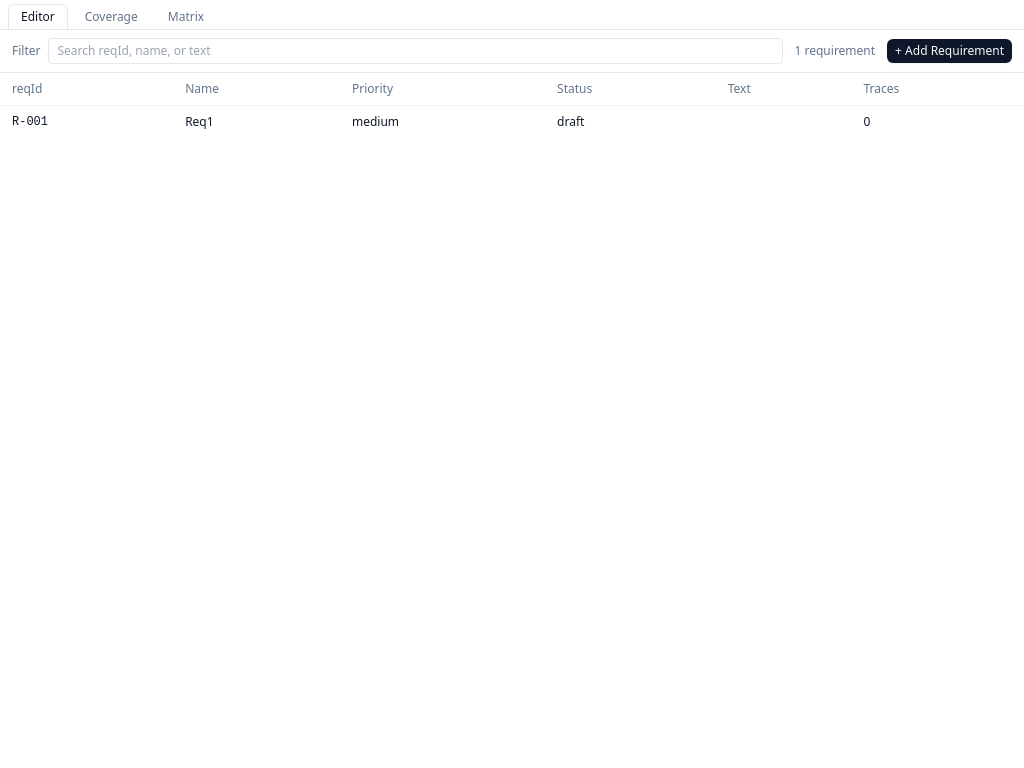
Test: <RequirementsSurface /> — Editor | Coverage sub-tablist › clicking a gap-list row selects the requirement and returns to the Editor tab
Click the tab with test id "requirements-tab-coverage-button" at (111, 16), box [72, 4, 151, 29]
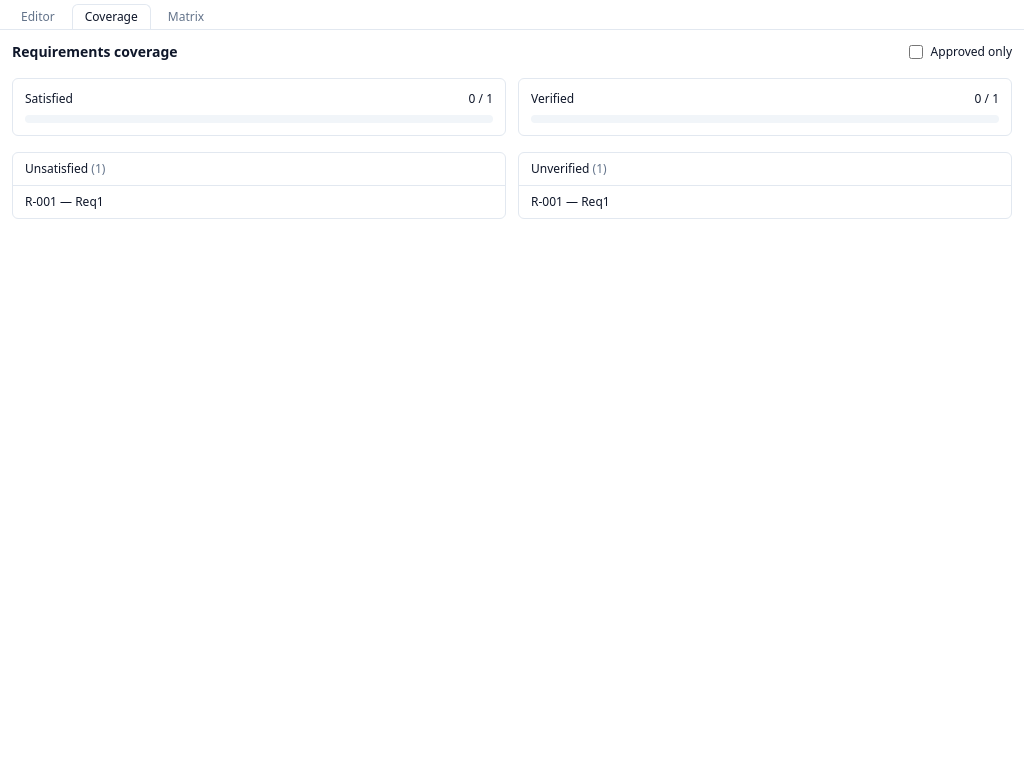
Click the button "R-001 — Req1" below "Unsatisfied" at (64, 202), box [13, 186, 505, 218]
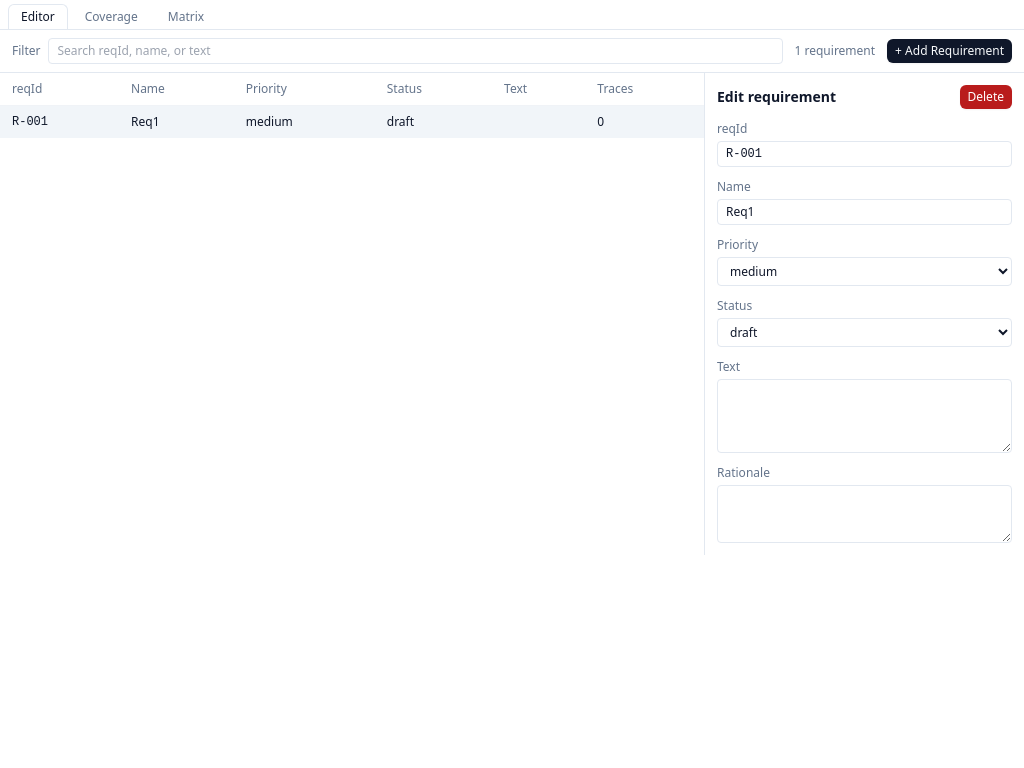
Check: the element with test id "requirements-surface-form" is shown, box [704, 73, 1023, 555]
